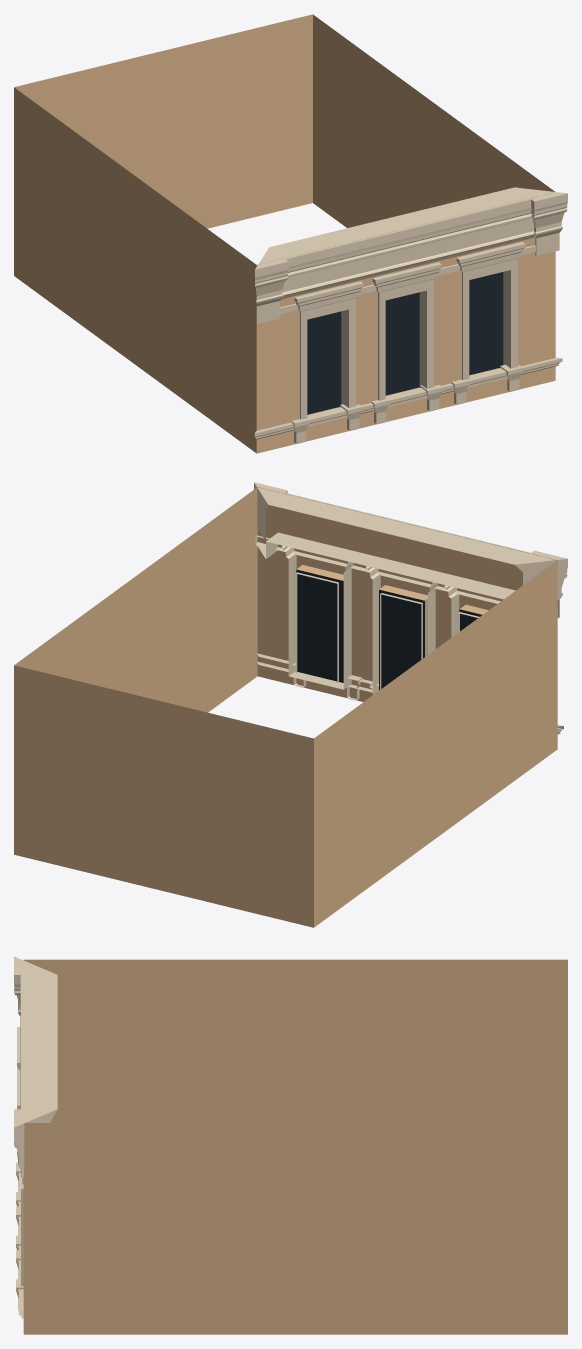
The model's file is B1_2ndF_00.glb.
The picture shows the model from 3 angles, top to bottom: view 1: azimuth 30°, elevation 25°; view 2: azimuth 150°, elevation 25°; view 3: azimuth 270°, elevation 25°; orthographic projection. The views are drawn at different scales.
Parts seen in each view (by area): view 1: B1_2ndF_00; view 2: B1_2ndF_00; view 3: B1_2ndF_00.
Part boxes in pixels (x1,y1,x2,y2): B1_2ndF_00: [14, 14, 567, 453]; B1_2ndF_00: [14, 482, 567, 927]; B1_2ndF_00: [14, 956, 567, 1334].
Bounding box in the file's own units: 5.95 × 3.43 × 8.13.
